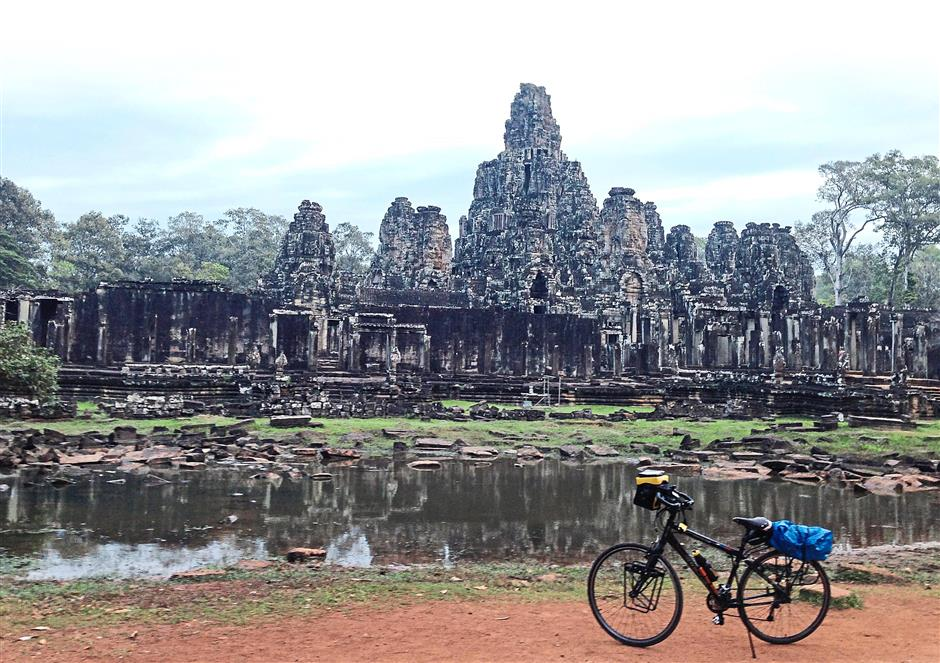Hindu Temple: (286, 94, 776, 373)
